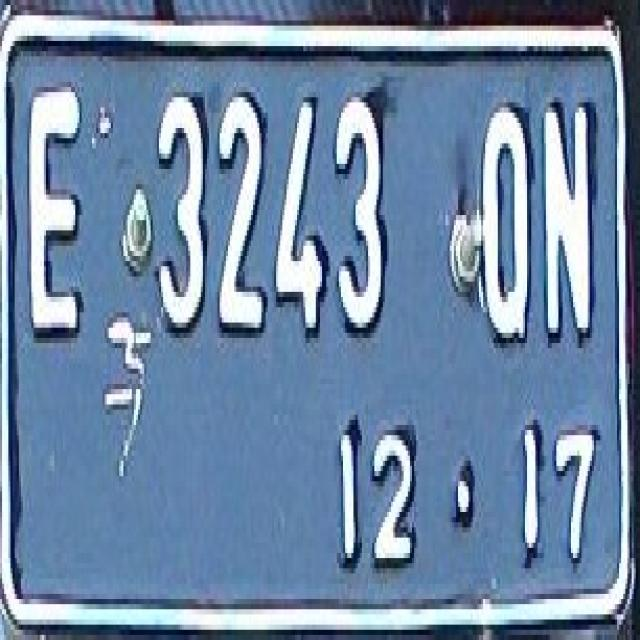plate: (0, 5, 632, 615)
